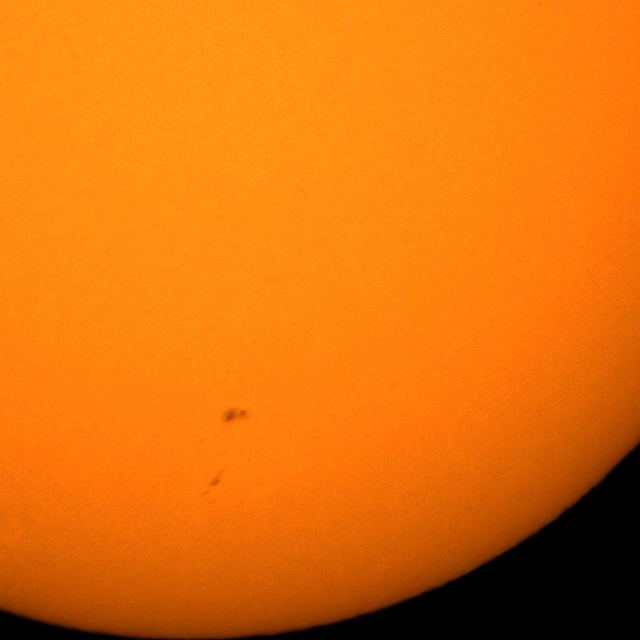sunspot: (220, 406, 250, 425), (209, 474, 221, 490)
